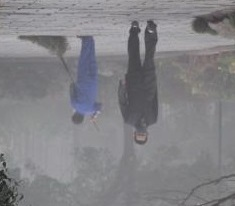person: (117, 18, 162, 148), (66, 34, 105, 126)
